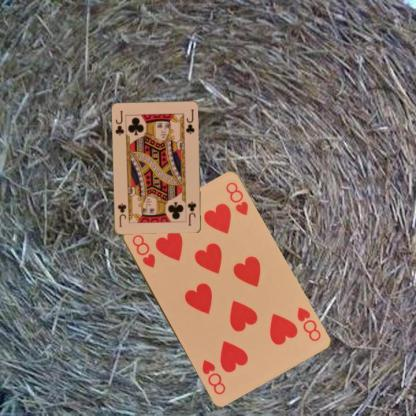8h: (293, 304, 322, 343), (129, 232, 156, 269)
Jc: (113, 108, 125, 137), (185, 199, 197, 227)
